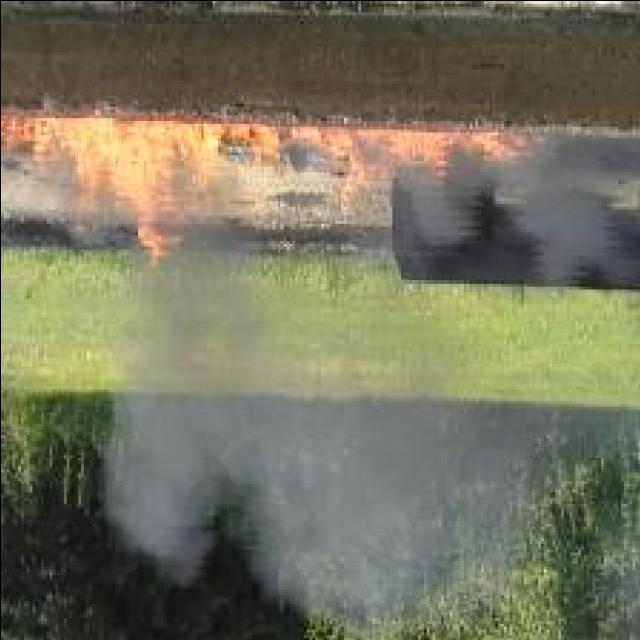Fire: (0, 120, 543, 266)
